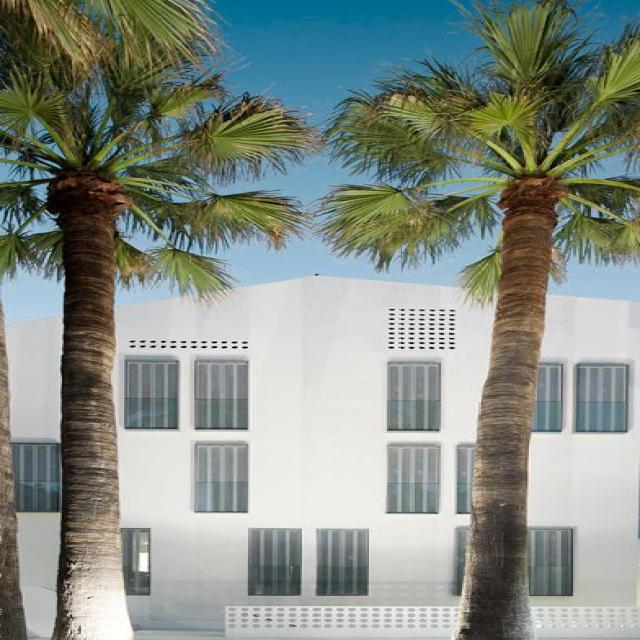window: (191, 444, 251, 511), (386, 443, 443, 513), (314, 530, 371, 599), (126, 359, 182, 429), (383, 363, 437, 433), (198, 361, 249, 431), (525, 530, 578, 597), (251, 529, 302, 597), (579, 366, 629, 434), (9, 442, 56, 513), (126, 528, 148, 595), (537, 368, 559, 432)
